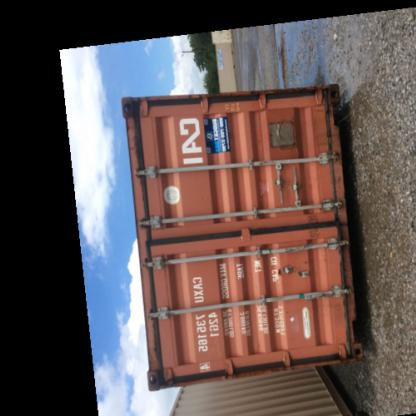Damage: (322, 215, 354, 360), (318, 85, 344, 210), (298, 210, 322, 240)
